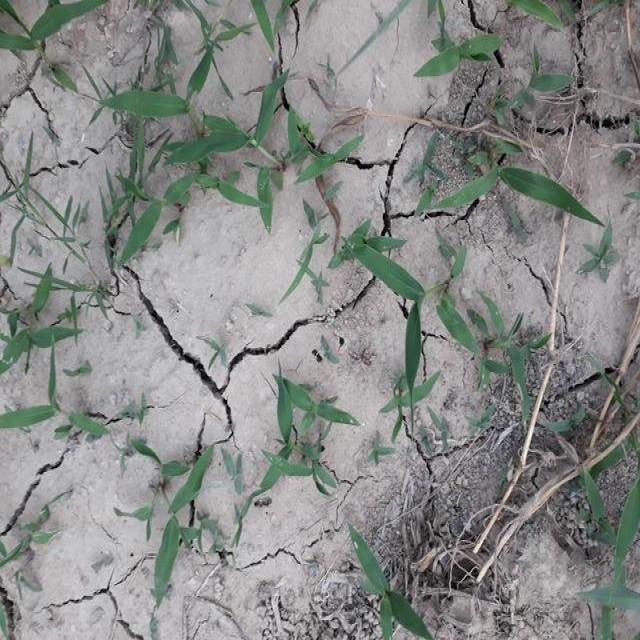weed: (156, 93, 351, 219), (440, 159, 576, 235), (142, 459, 205, 600), (365, 247, 423, 392), (259, 393, 336, 502), (588, 491, 633, 632), (352, 549, 409, 640), (2, 292, 64, 365), (400, 43, 507, 85), (2, 2, 107, 40), (102, 90, 194, 130)
